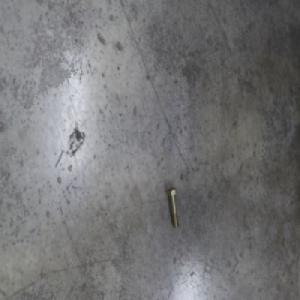Bolt: (165, 185, 179, 229)
